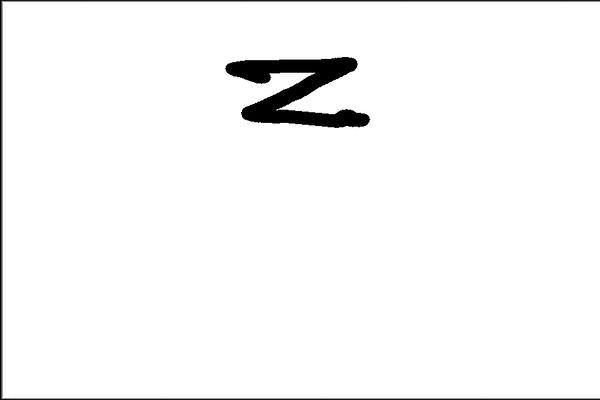Z: (219, 50, 379, 136)
